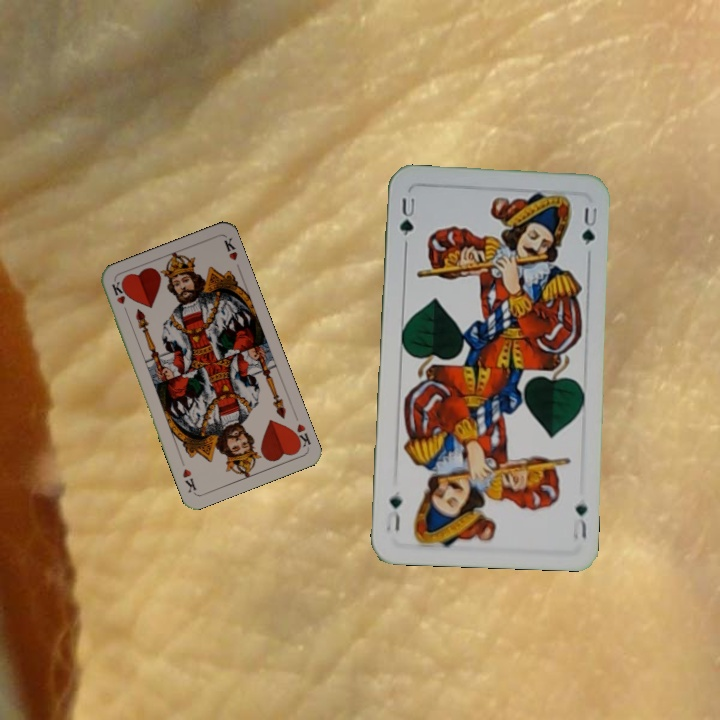GU: (396, 193, 417, 239), (568, 501, 589, 544)
HK: (108, 278, 131, 318), (288, 420, 314, 452)
